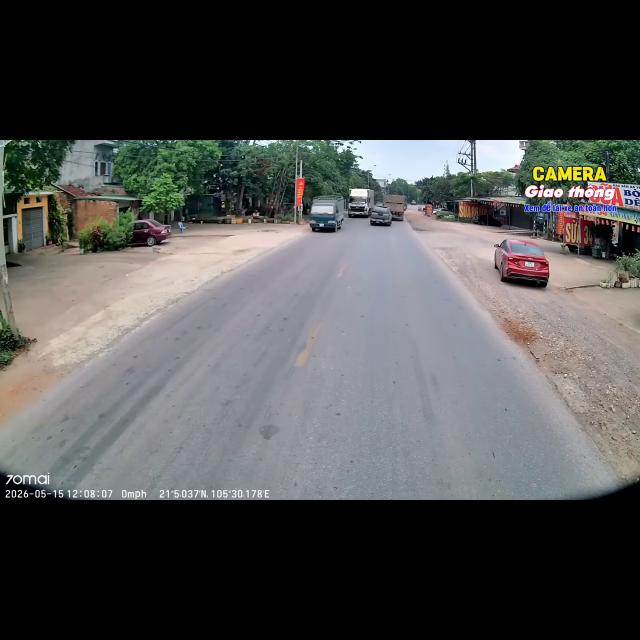car: (494, 239, 549, 286), (131, 219, 171, 245), (370, 206, 391, 225), (472, 215, 502, 226), (436, 209, 453, 217), (375, 202, 383, 206), (412, 201, 416, 204)
truck: (310, 196, 345, 231), (348, 189, 374, 217), (384, 194, 406, 220)
